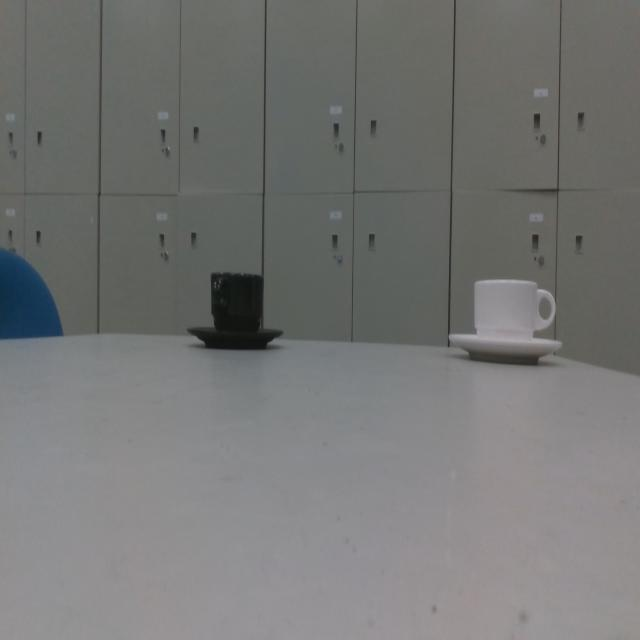black: (185, 270, 285, 350)
white: (446, 275, 564, 367)
